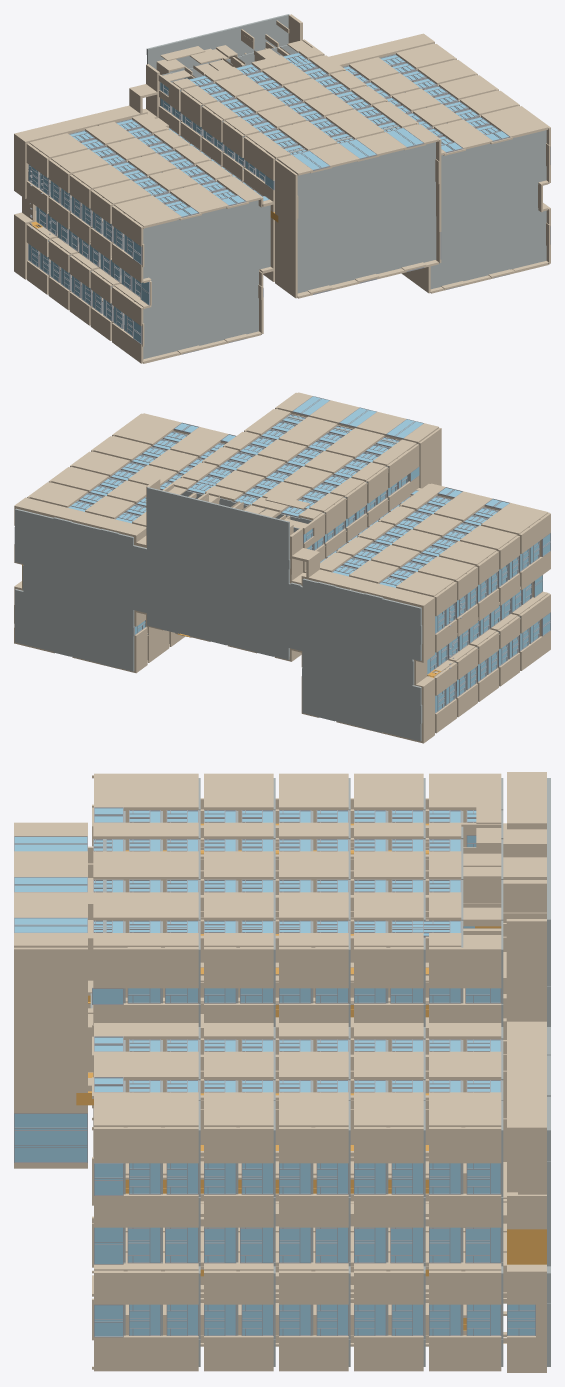
The model's file is model_ifc_glengarry.glb.
3 renders of one model, top to bottom at view 1: azimuth 30°, elevation 25°; view 2: azimuth 150°, elevation 25°; view 3: azimuth 270°, elevation 25°, orthographic. The views are drawn at different scales.
Visible parts, largest first — view 1: IfcWall, IfcSlab, IfcPlate, IfcMember; view 2: IfcWall, IfcSlab, IfcPlate, IfcMember; view 3: IfcWall, IfcPlate, IfcMember, IfcSlab, IfcDoor.
Part boxes in pixels (x1,y1,x2,y2): IfcWall: (14, 14, 550, 363); IfcSlab: (28, 14, 546, 359); IfcPlate: (29, 53, 508, 343); IfcMember: (28, 52, 550, 354); IfcWall: (14, 392, 550, 743); IfcSlab: (14, 416, 539, 741); IfcPlate: (68, 396, 550, 712); IfcMember: (71, 396, 550, 713); IfcWall: (14, 772, 546, 1372); IfcPlate: (14, 808, 535, 1336); IfcMember: (14, 807, 535, 1337); IfcSlab: (90, 778, 550, 1366); IfcDoor: (76, 823, 546, 1330).
Size of the model in its own units: 64.71 by 28.75 by 40.72.
